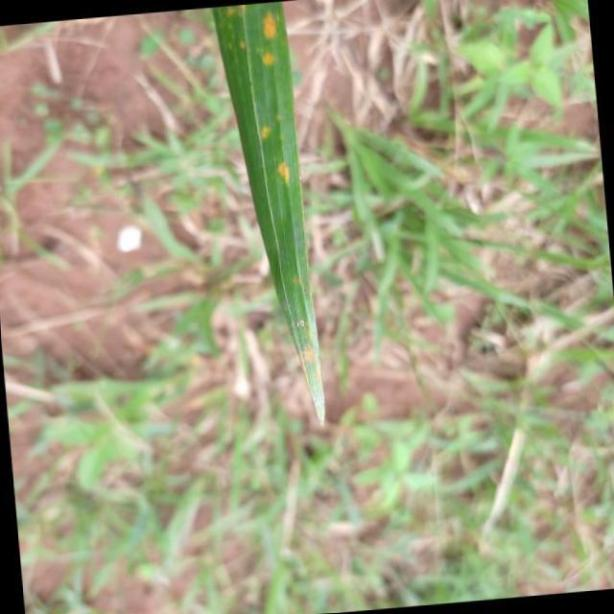Kalium: (202, 0, 353, 432)
